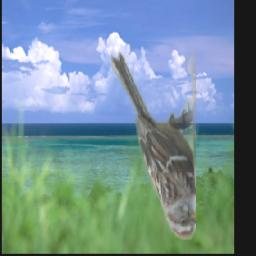Sparrow: (111, 52, 196, 240)
